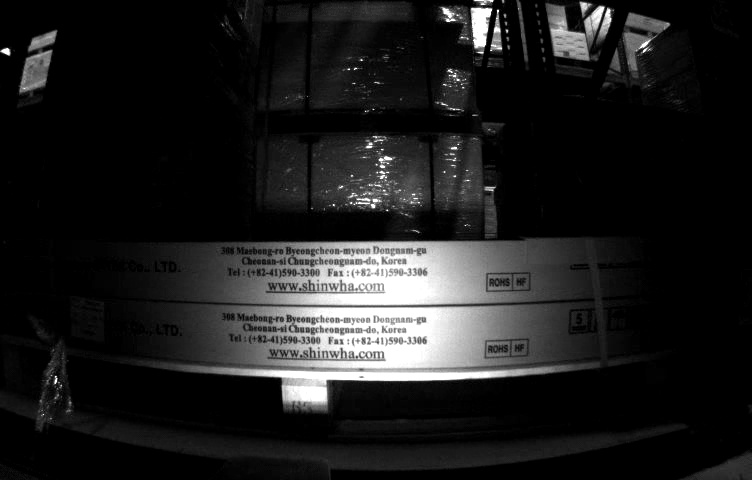True Barcode: (69, 296, 105, 341)
